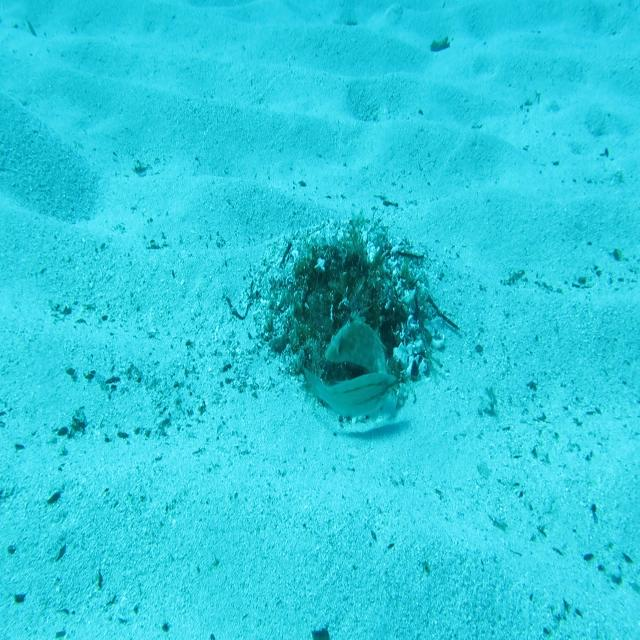DAN_CIRC: (324, 309, 391, 377)
core_nest: (321, 256, 367, 302)
female: (300, 363, 402, 423)
nest: (238, 203, 458, 445)
vegetation: (429, 34, 452, 54), (309, 623, 332, 640)
